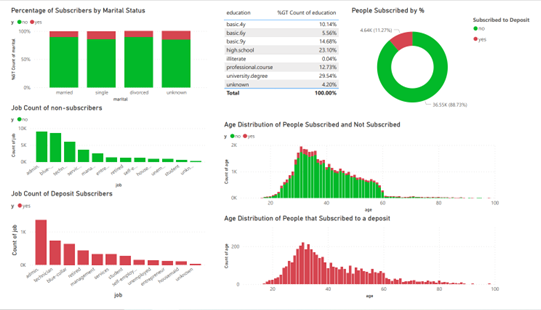

What the dashboard file says about the page in this screenshot:
{"tool":"powerbi","page":{"name":"Page 1","canvas":[1280,720],"ordinal":0},"visuals":[{"type":"clusteredColumnChart","title":"Job Count of non-subscribers","fields":{"Category":["bank_csv.job"],"Y":["CountNonNull(bank_csv.job)"],"Series":["bank_csv.y"]},"box":[0,221.2,488.5,226.9],"z":1},{"type":"donutChart","title":"People Subscribed by %","fields":{"Y":["CountNonNull(bank_csv.y)"],"Series":["bank_csv.y"]},"box":[832.7,0,448.1,278.8],"z":2},{"type":"tableEx","fields":{"Values":["bank_csv.education","CountNonNull(bank_csv.education)"]},"box":[521.2,0,311.5,278.8],"z":3},{"type":"columnChart","title":"Age Distribution of People Subscribed and Not Subscribed","fields":{"Category":["bank_csv.age"],"Y":["CountNonNull(bank_csv.age)"],"Series":["bank_csv.y"]},"box":[521.2,278.8,682.7,228.8],"z":4},{"type":"clusteredColumnChart","title":"Job Count of Deposit Subscribers","fields":{"Category":["bank_csv.job"],"Y":["CountNonNull(bank_csv.job)"],"Series":["bank_csv.y"]},"box":[0,448.1,488.5,271.2],"z":5},{"type":"columnChart","title":"Age Distribution of People that Subscribed to a deposit","fields":{"Y":["CountNonNull(bank_csv.age)"],"Category":["bank_csv.age"]},"box":[521.2,507.7,682.7,211.5],"z":6},{"type":"hundredPercentStackedColumnChart","title":"Percentage of Subscribers by Marital Status","fields":{"Category":["bank_csv.marital"],"Series":["bank_csv.y"],"Y":["Divide(CountNonNull(bank_csv.marital), ScopedEval(CountNonNull(bank_csv.marital), []))"]},"box":[0,0,488.5,238.5],"z":7}]}

Visuals, with their boxes in screenshot pixels (x1, y1, x2, y2), scaled from the page's 1280x720 canvas onto the 541x310 screenshot:
"Job Count of non-subscribers" clusteredColumnChart: 0:95:206:193
"People Subscribed by %" donutChart: 352:0:540:120
tableEx - bank_csv.education x CountNonNull(bank_csv.education): 220:0:352:120
"Age Distribution of People Subscribed and Not Subscribed" columnChart: 220:120:509:219
"Job Count of Deposit Subscribers" clusteredColumnChart: 0:193:206:309
"Age Distribution of People that Subscribed to a deposit" columnChart: 220:219:509:309
"Percentage of Subscribers by Marital Status" hundredPercentStackedColumnChart: 0:0:206:103
